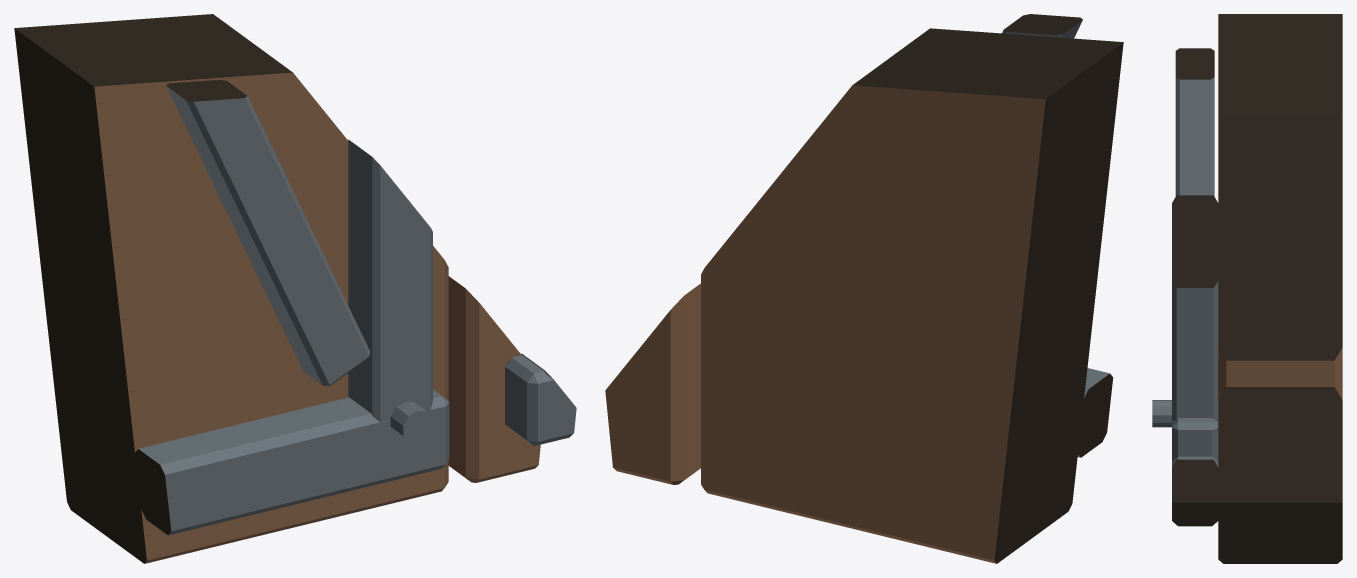
The model's file is SM_DoorShard_01_25.fbx.
3 renders of one model, left to right at view 1: azimuth 30°, elevation 25°; view 2: azimuth 150°, elevation 25°; view 3: azimuth 270°, elevation 25°, orthographic. The views are drawn at different scales.
Visible parts, largest first — view 1: SM_DoorShard_01_25; view 2: SM_DoorShard_01_25; view 3: SM_DoorShard_01_25.
Part boxes in pixels (<box>): SM_DoorShard_01_25: <box>14,14,576,563</box>; SM_DoorShard_01_25: <box>605,14,1123,563</box>; SM_DoorShard_01_25: <box>1152,14,1342,563</box>.
Size of the model in its own units: 52.22 by 24.5 by 54.36.
